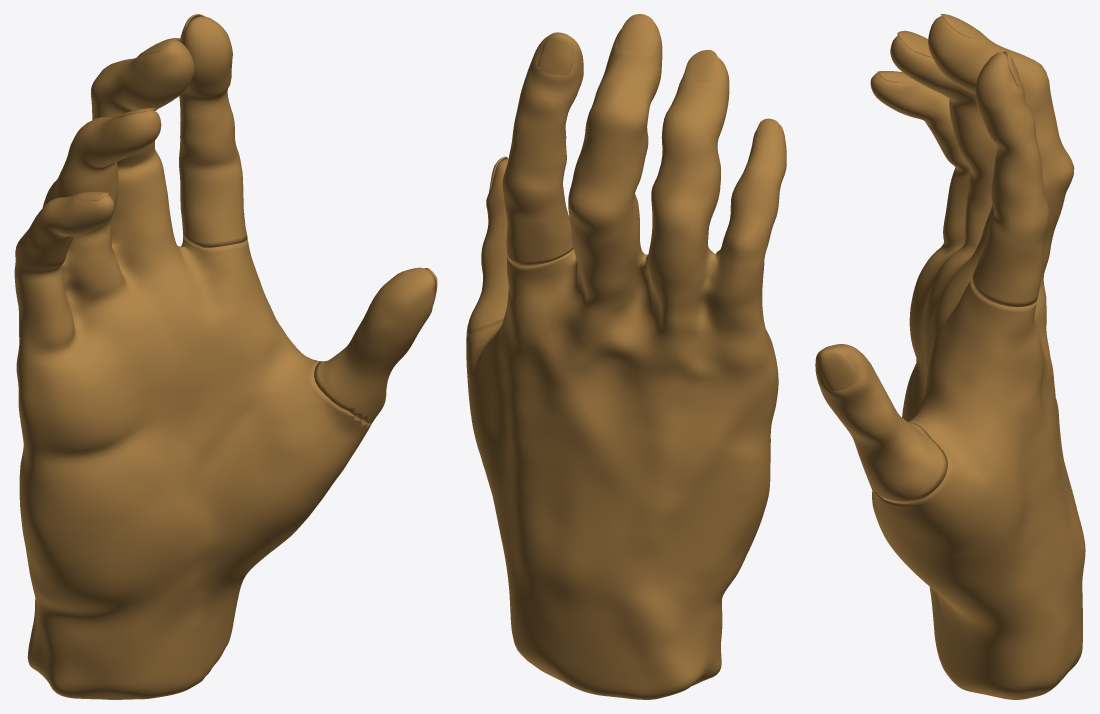
File: Hand.fbx
3 renders of one model, left to right at view 1: azimuth 30°, elevation 25°; view 2: azimuth 150°, elevation 25°; view 3: azimuth 270°, elevation 25°, orthographic. The views are drawn at different scales.
Visible parts, largest first — view 1: kare-decor, kare-decor.001, kare-decor.002; view 2: kare-decor, kare-decor.001, kare-decor.002; view 3: kare-decor, kare-decor.001, kare-decor.002.
Boxes of the visible parts, x1=… form: kare-decor: x1=14, y1=38, x2=371, y2=699; kare-decor.001: x1=179, y1=14, x2=247, y2=247; kare-decor.002: x1=314, y1=267, x2=437, y2=423; kare-decor: x1=466, y1=14, x2=786, y2=699; kare-decor.001: x1=502, y1=32, x2=583, y2=265; kare-decor.002: x1=466, y1=156, x2=508, y2=338; kare-decor: x1=867, y1=14, x2=1085, y2=699; kare-decor.001: x1=971, y1=51, x2=1049, y2=307; kare-decor.002: x1=815, y1=344, x2=947, y2=503.
Bounding box in the file's own units: 391 × 706 × 262.
